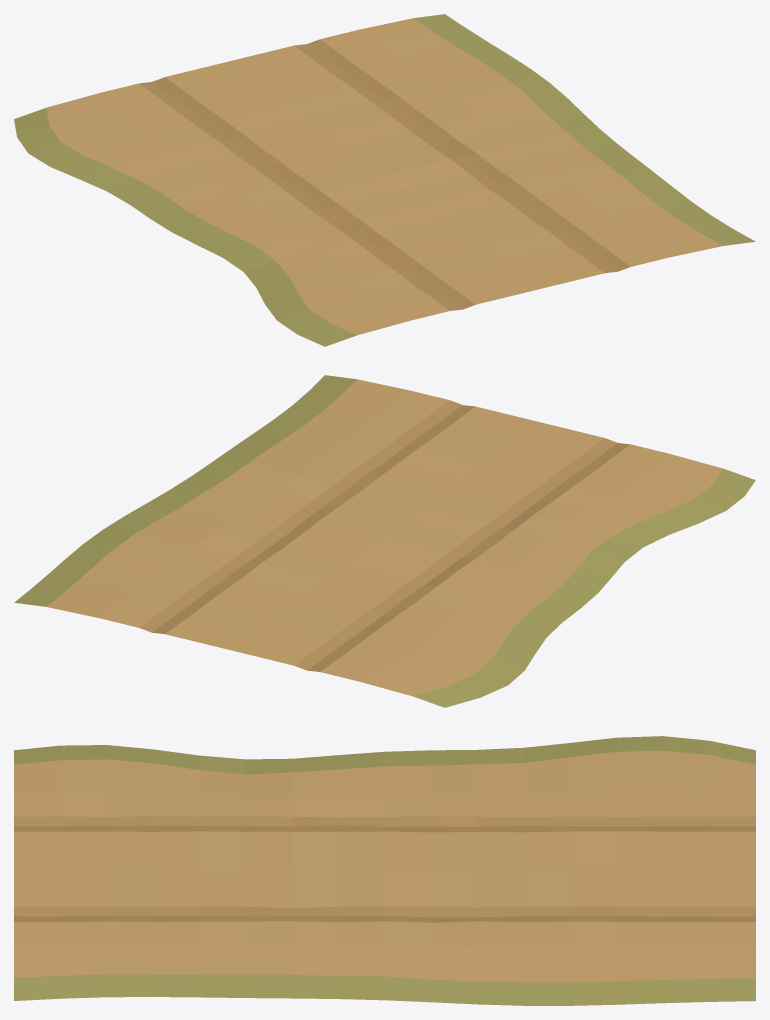
File: Path_Dirt_Straight.fbx
3 views of the same model, one above another, from view 1: azimuth 30°, elevation 25°; view 2: azimuth 150°, elevation 25°; view 3: azimuth 270°, elevation 25° (orthographic). The views are drawn at different scales.
Parts seen in each view (by area): view 1: Path_Dirt_Straight; view 2: Path_Dirt_Straight; view 3: Path_Dirt_Straight.
Part boxes in pixels (bbox=[...]): Path_Dirt_Straight: bbox=[14, 14, 755, 346]; Path_Dirt_Straight: bbox=[14, 375, 755, 707]; Path_Dirt_Straight: bbox=[14, 736, 755, 1005].
Bounding box in the file's own units: 3.44 × 0.0431 × 4.
